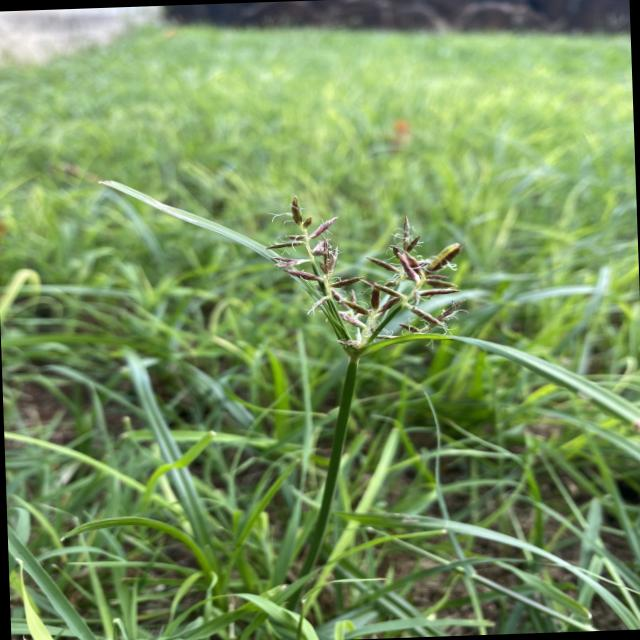cyperus: (258, 182, 485, 374)
